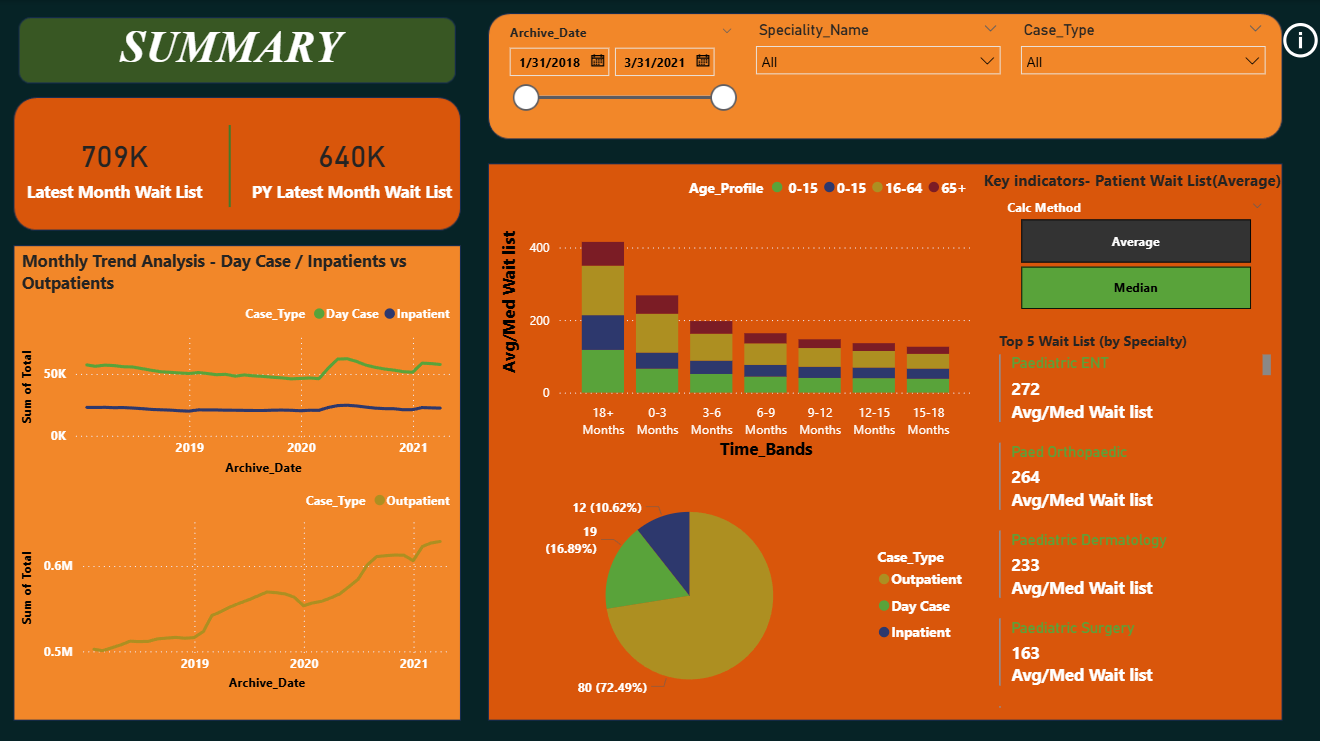

The page's visual inventory and layout, read from the dashboard file:
{"tool":"powerbi","page":{"name":"Summary","canvas":[1280,720],"ordinal":0},"visuals":[{"type":"card","fields":{"Values":["All_Data.Latest Month Wait List"]},"box":[16,96,192,128],"z":0},{"type":"card","fields":{"Values":["All_Data.PY Latest Month Wait List"]},"box":[236,96.1,208.6,127.6],"z":1000},{"type":"slicer","fields":{"Values":["Calculation Method.Calc Method"]},"box":[960.6,186.6,271.7,118],"z":2000},{"type":"pieChart","fields":{"Category":["All_Data.Case_Type"],"Y":["All_Data.Avg/Med Wait list"]},"box":[480.3,463.8,463.8,223.7],"z":3000},{"type":"columnChart","fields":{"Category":["All_Data.Time_Bands"],"Y":["All_Data.Avg/Med Wait list"],"Series":["All_Data.Age_Profile"]},"box":[480,160,464,288],"z":4000},{"type":"multiRowCard","title":"Top 5 Wait List (by Specialty)","fields":{"Values":["All_Data.Avg/Med Wait list","All_Data.Speciality_Name"]},"box":[960,320,272,368],"z":5000},{"type":"lineChart","title":"Monthly Trend Analysis - Day Case / Inpatients vs Outpatients","fields":{"Category":["All_Data.Archive_Date"],"Y":["Sum(All_Data.Total)"],"Series":["All_Data.Case_Type"]},"box":[16.5,240.1,428.1,223.7],"z":6000},{"type":"lineChart","fields":{"Category":["All_Data.Archive_Date"],"Y":["Sum(All_Data.Total)"],"Series":["All_Data.Case_Type"]},"box":[16.5,463.8,428.1,208.6],"z":7000},{"type":"slicer","fields":{"Values":["All_Data.Archive_Date"]},"box":[480.3,17.8,240.1,111.1],"z":8000},{"type":"slicer","fields":{"Values":["All_Data.Case_Type"]},"box":[976,16,256,112],"z":9000},{"type":"slicer","fields":{"Values":["All_Data.Speciality_Name"]},"box":[720,16,256,112],"z":10000},{"type":"textbox","box":[16,16,416,64],"z":11000},{"type":"shape","box":[152.3,120.8,141.3,79.6],"z":12000},{"type":"card","fields":{"Values":["All_Data.Dynamic Title"]},"box":[944.1,152.3,299.1,48],"z":13000},{"type":"actionButton","box":[1233.6,16.5,46.7,43.9],"z":14000}]}

Visuals, with their boxes in screenshot pixels (x1, y1, x2, y2), scaled from the page's 1280x720 canvas onto the 1320x741 screenshot:
card - All_Data.Latest Month Wait List: bbox(16, 99, 214, 231)
card - All_Data.PY Latest Month Wait List: bbox(243, 99, 458, 230)
slicer - Calculation Method.Calc Method: bbox(991, 192, 1271, 313)
pieChart - All_Data.Case_Type x All_Data.Avg/Med Wait list: bbox(495, 477, 974, 708)
columnChart - All_Data.Time_Bands x All_Data.Avg/Med Wait list: bbox(495, 165, 974, 461)
"Top 5 Wait List (by Specialty)" multiRowCard: bbox(990, 329, 1270, 708)
"Monthly Trend Analysis - Day Case / Inpatients vs Outpatients" lineChart: bbox(17, 247, 458, 477)
lineChart - All_Data.Archive_Date x Sum(All_Data.Total): bbox(17, 477, 458, 692)
slicer - All_Data.Archive_Date: bbox(495, 18, 743, 133)
slicer - All_Data.Case_Type: bbox(1006, 16, 1270, 132)
slicer - All_Data.Speciality_Name: bbox(742, 16, 1006, 132)
textbox: bbox(16, 16, 446, 82)
shape: bbox(157, 124, 303, 206)
card - All_Data.Dynamic Title: bbox(974, 157, 1282, 206)
actionButton: bbox(1272, 17, 1319, 62)
